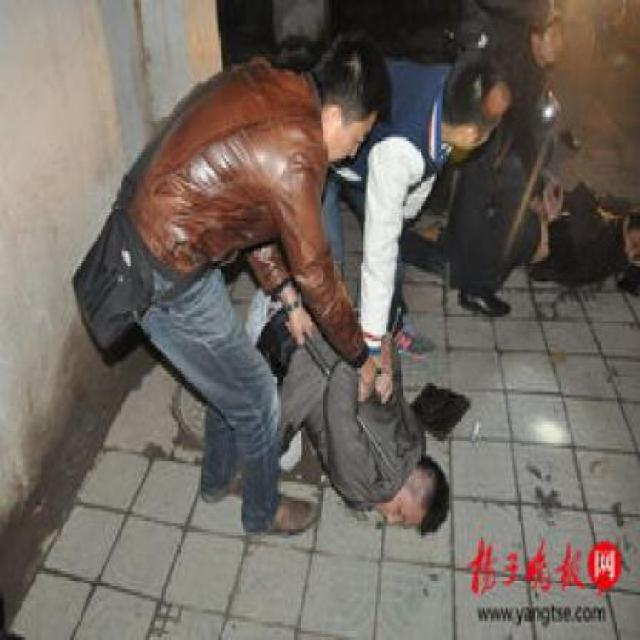fall: (248, 267, 457, 559)
